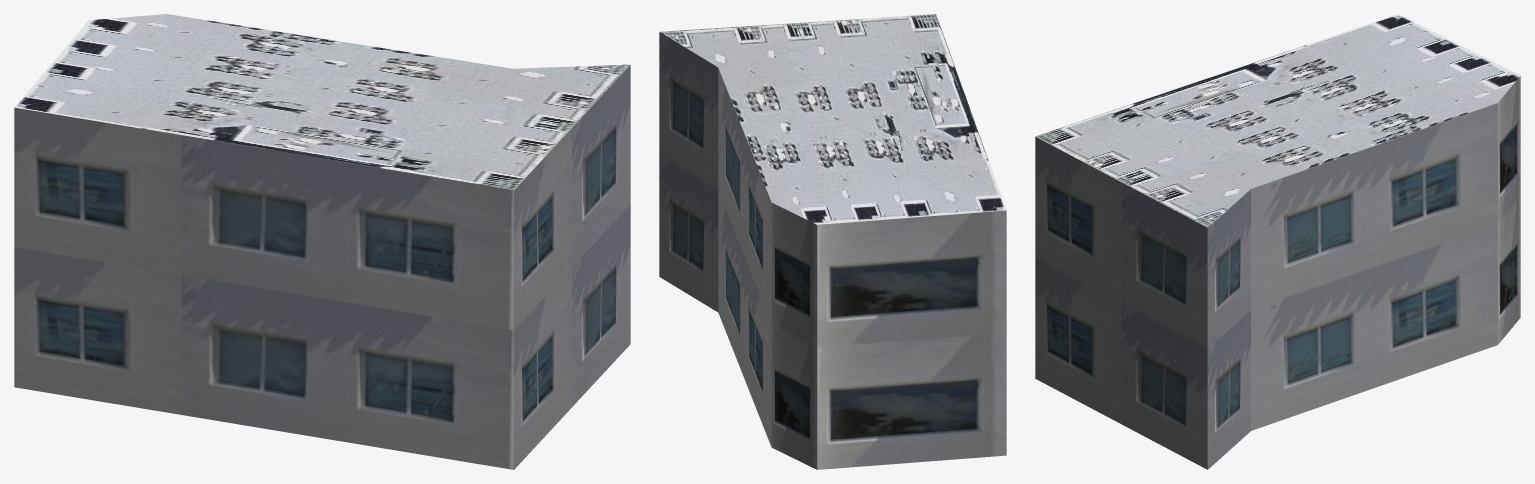
File: ResTex__21.fbx
3 renders of one model, left to right at view 1: azimuth 30°, elevation 25°; view 2: azimuth 150°, elevation 25°; view 3: azimuth 270°, elevation 25°, orthographic. The views are drawn at different scales.
Visible parts, largest first — view 1: CityEngineMaterial_10_m, CityEngineMaterial_8_m; view 2: CityEngineMaterial_10_m, CityEngineMaterial_8_m; view 3: CityEngineMaterial_10_m, CityEngineMaterial_8_m.
Boxes of the visible parts, x1,y1,x2,y2 form: CityEngineMaterial_10_m: (14,65,630,469); CityEngineMaterial_8_m: (14,14,629,190); CityEngineMaterial_10_m: (659,32,1006,469); CityEngineMaterial_8_m: (660,14,1006,224); CityEngineMaterial_10_m: (1035,76,1520,469); CityEngineMaterial_8_m: (1035,14,1520,227).
Size of the model in its own units: 11.36 by 6 by 10.91.
2 materials, 2 textured.
